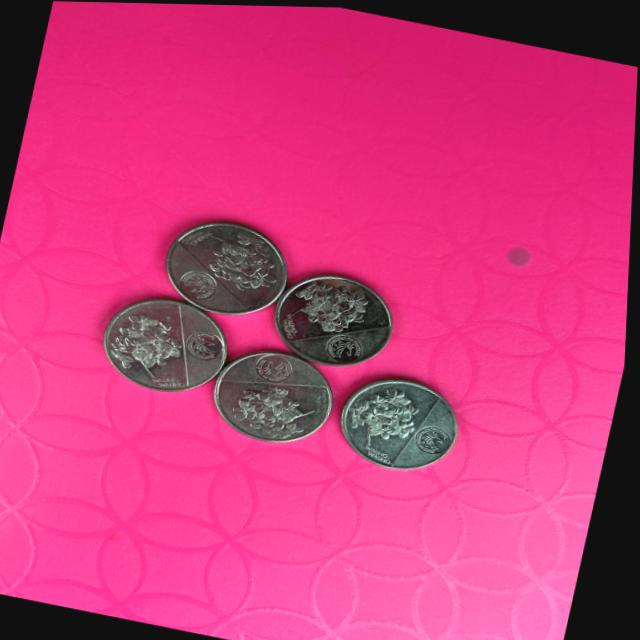1_New_Back: (105, 305, 190, 375), (281, 265, 369, 331), (347, 376, 427, 446), (199, 221, 274, 287), (232, 374, 309, 435)
